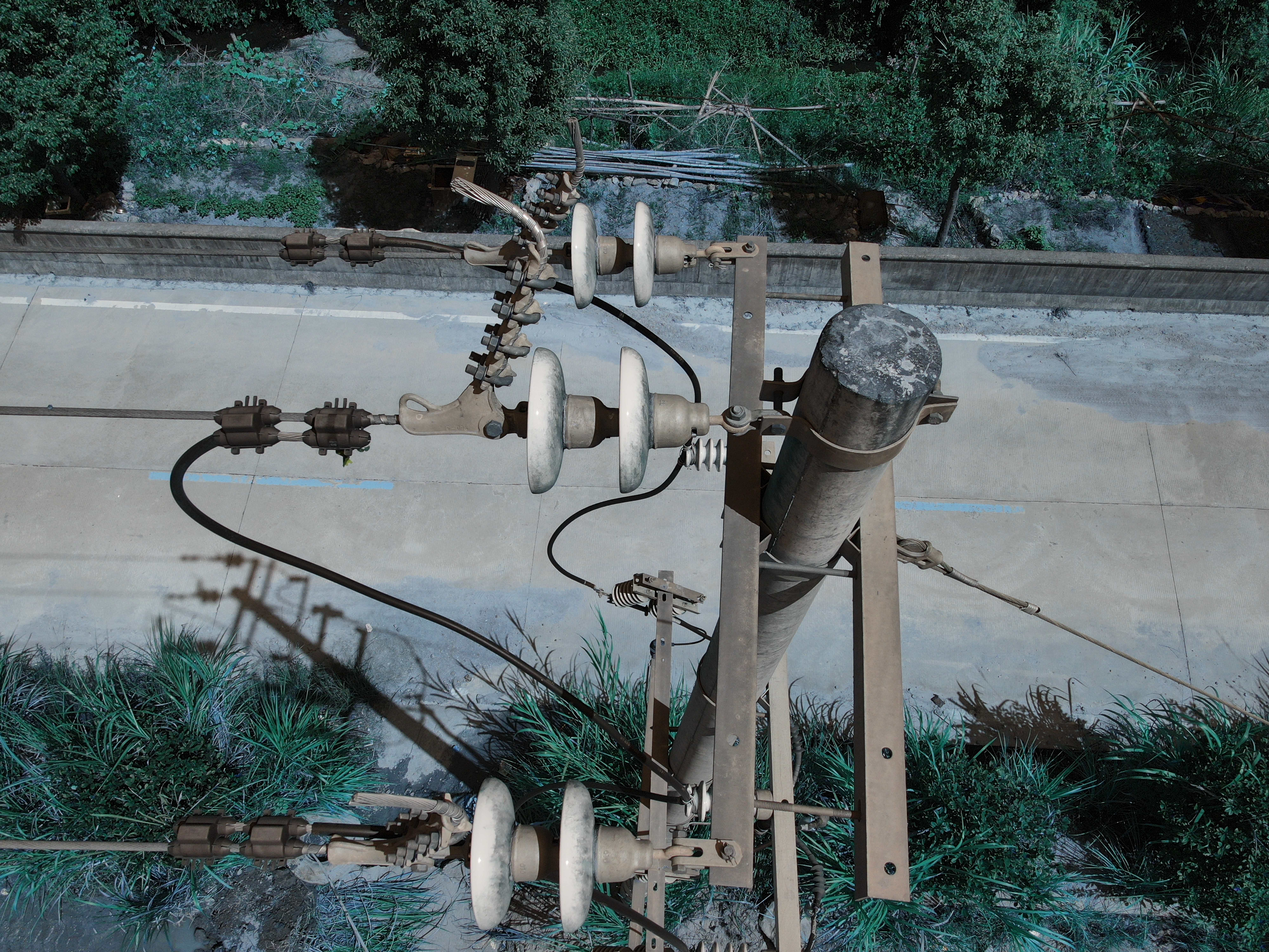severe_soiling_no_discharge_whole: (461, 774, 654, 942), (518, 343, 707, 495), (566, 198, 694, 307)
